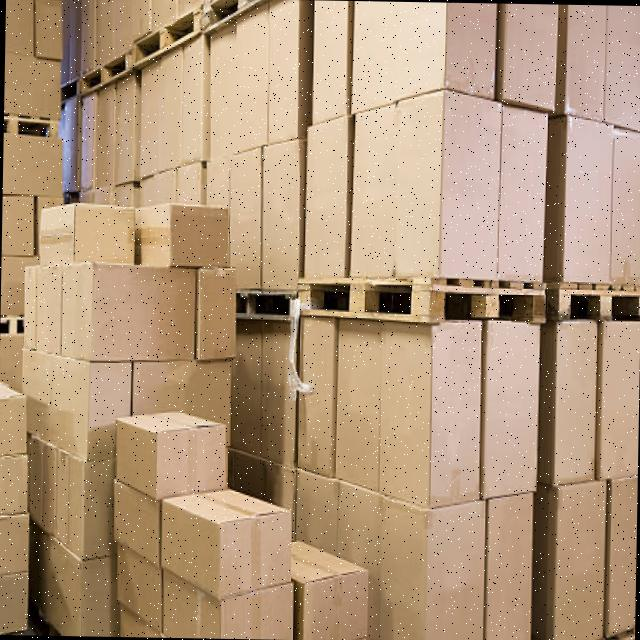Wooden-Pallets: (292, 268, 545, 327), (127, 3, 210, 75), (553, 278, 640, 326), (79, 41, 131, 98)
